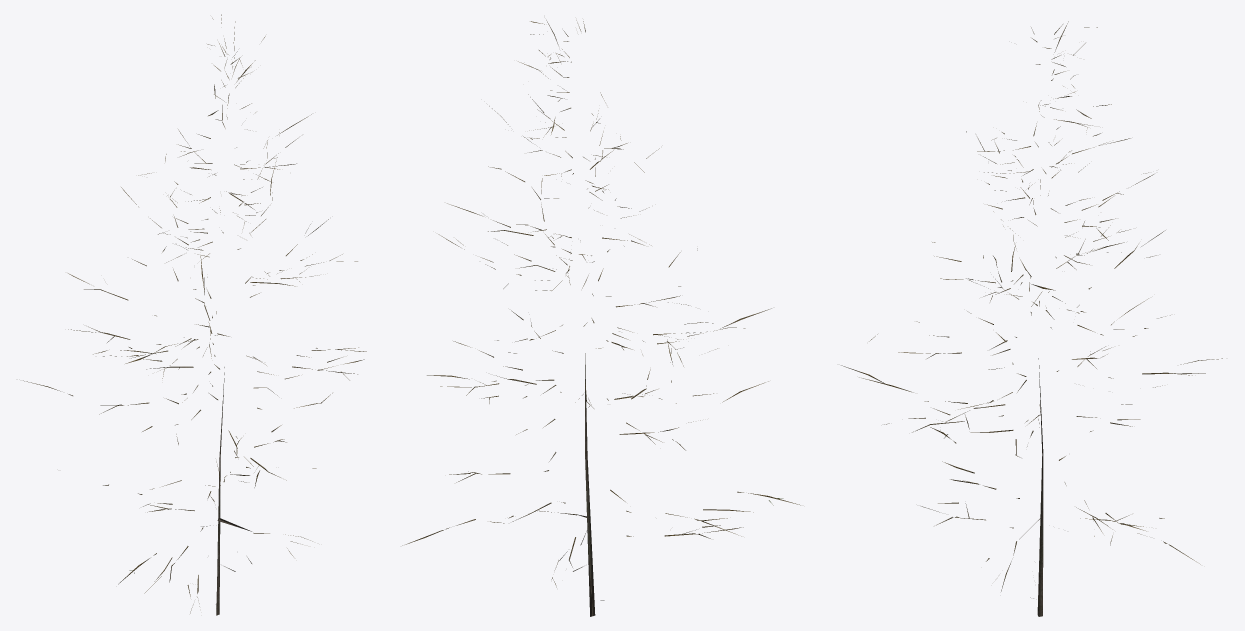
File: fir_sapling_medium-far.glb
3 renders of one model, left to right at view 1: azimuth 30°, elevation 25°; view 2: azimuth 150°, elevation 25°; view 3: azimuth 270°, elevation 25°, orthographic. The views are drawn at different scales.
Parts seen in each view (by area): view 1: fir_sapling_medium_a_LOD0; view 2: fir_sapling_medium_a_LOD0; view 3: fir_sapling_medium_a_LOD0.
Part boxes in pixels (x1,y1,x2,y2): fir_sapling_medium_a_LOD0: (23,14,366,615); fir_sapling_medium_a_LOD0: (402,20,800,616); fir_sapling_medium_a_LOD0: (841,21,1222,616).
Bounding box in the file's own units: 4.55 × 8.49 × 4.93.
Materials: 3 (3 with a texture image).
